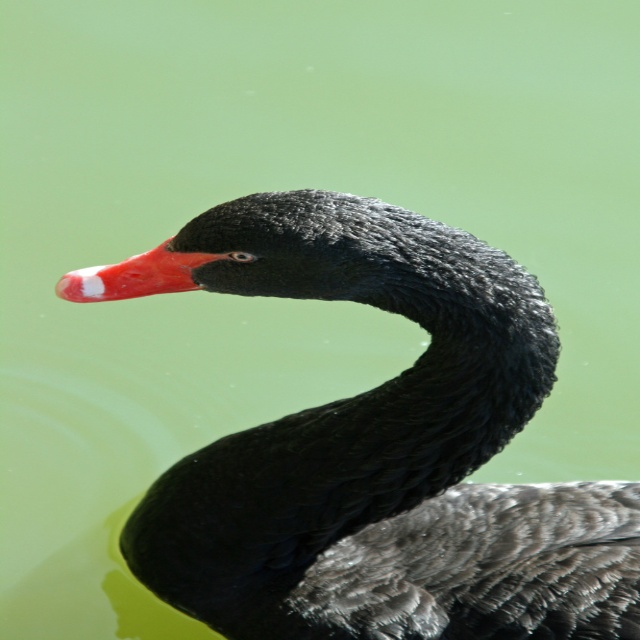Swan: (51, 186, 639, 639)
